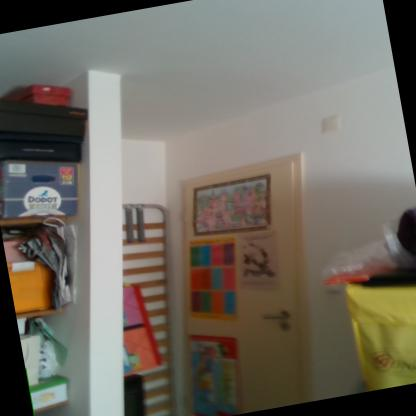closed: (151, 145, 352, 415)
